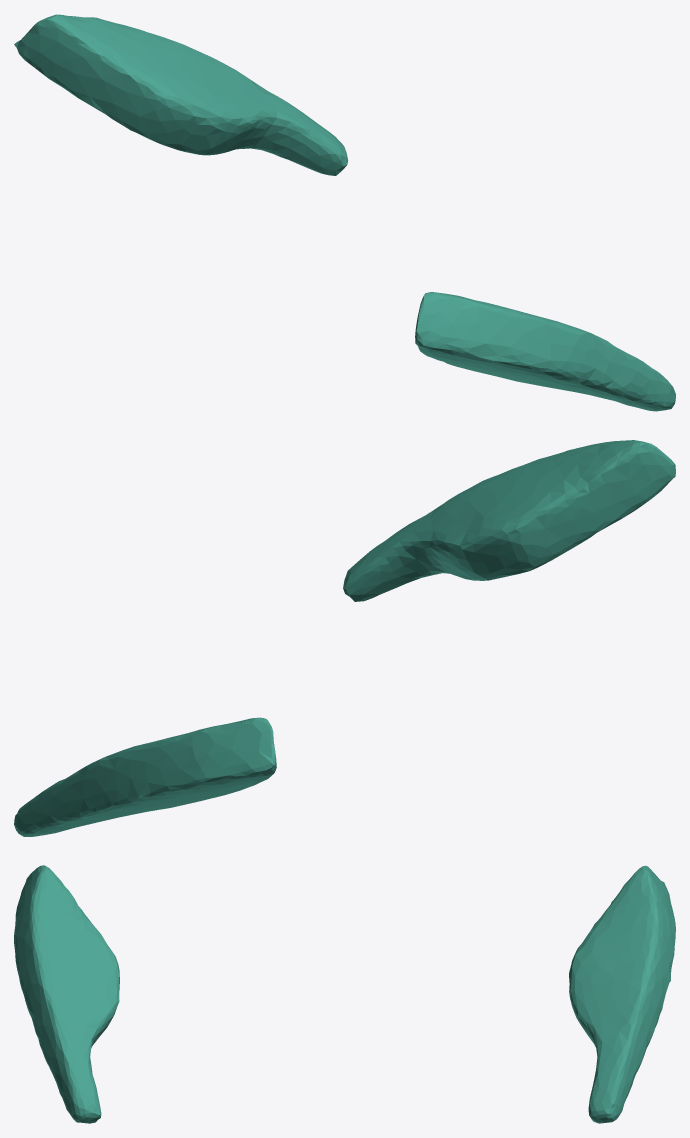
3 views of the same model, one above another, from view 1: azimuth 30°, elevation 25°; view 2: azimuth 150°, elevation 25°; view 3: azimuth 270°, elevation 25° (orthographic). The views are drawn at different scales.
Parts seen in each view (by area): view 1: 945.obj; view 2: 945.obj; view 3: 945.obj.
Boxes of the visible parts, x1,y1,x2,y2 form: 945.obj: (14, 14, 675, 411); 945.obj: (14, 440, 675, 836); 945.obj: (14, 865, 675, 1123).
Size of the model in its own units: 2154 by 1394 by 5295.
